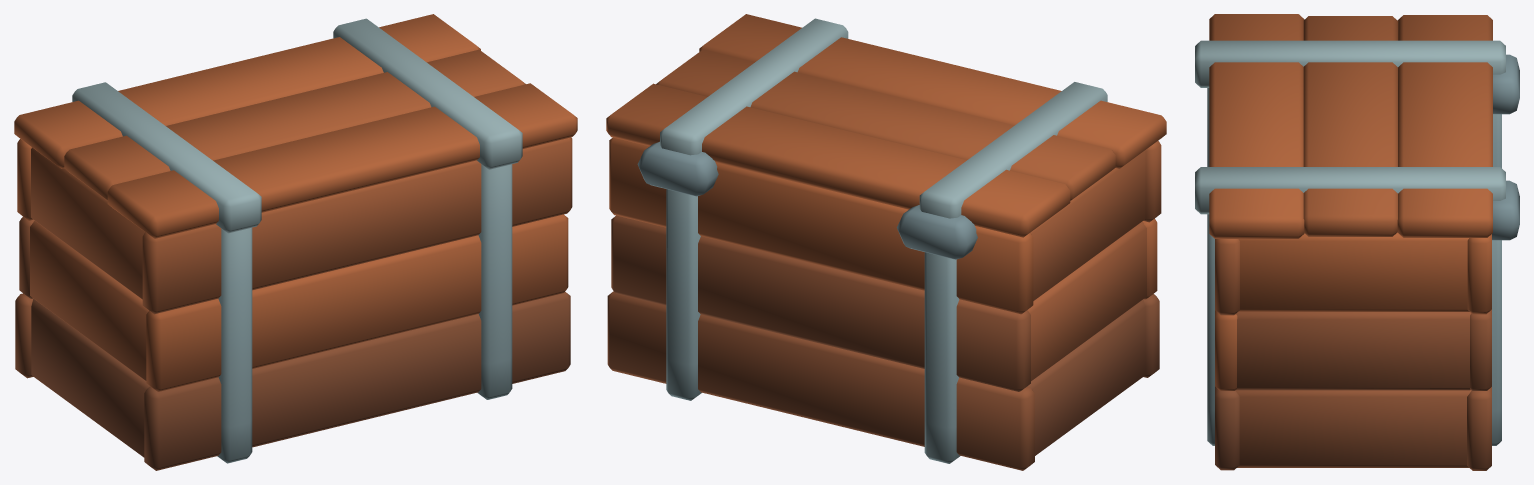
The model's file is chest_01.fbx.
The picture shows the model from 3 angles, left to right: view 1: azimuth 30°, elevation 25°; view 2: azimuth 150°, elevation 25°; view 3: azimuth 270°, elevation 25°; orthographic projection.
Visible parts, largest first — view 1: chest_01, chest_01_lid; view 2: chest_01, chest_01_lid; view 3: chest_01, chest_01_lid.
Part boxes in pixels (<box>): chest_01: <box>15,137,572,470</box>; chest_01_lid: <box>14,14,577,238</box>; chest_01: <box>607,137,1161,470</box>; chest_01_lid: <box>606,14,1166,237</box>; chest_01: <box>1207,54,1519,470</box>; chest_01_lid: <box>1195,14,1505,238</box>.
Bounding box in the file's own units: 0.8395 × 0.5058 × 0.5564.
1 material, 1 textured.
